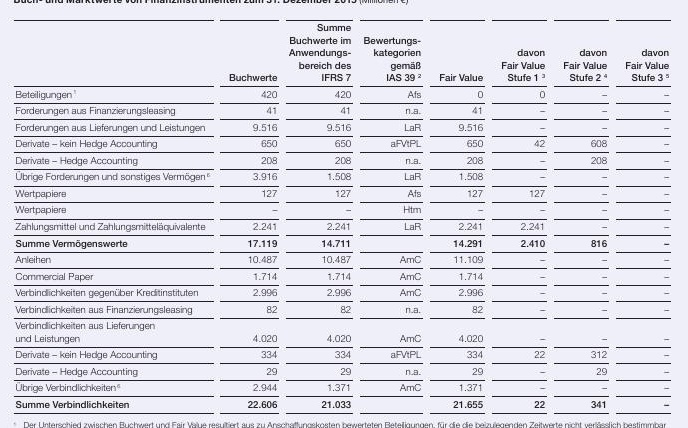table: (0, 0, 688, 428)
